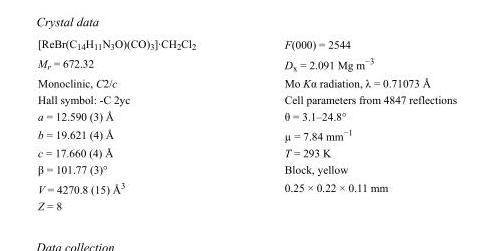table: (37, 36, 456, 211)
table column: (239, 36, 456, 211), (37, 36, 239, 211)
table row: (37, 53, 456, 74), (37, 124, 456, 144), (37, 177, 456, 197), (37, 36, 456, 53), (37, 90, 456, 107), (37, 107, 456, 124), (37, 160, 456, 177), (37, 74, 456, 90), (37, 144, 456, 160), (37, 197, 456, 211)
